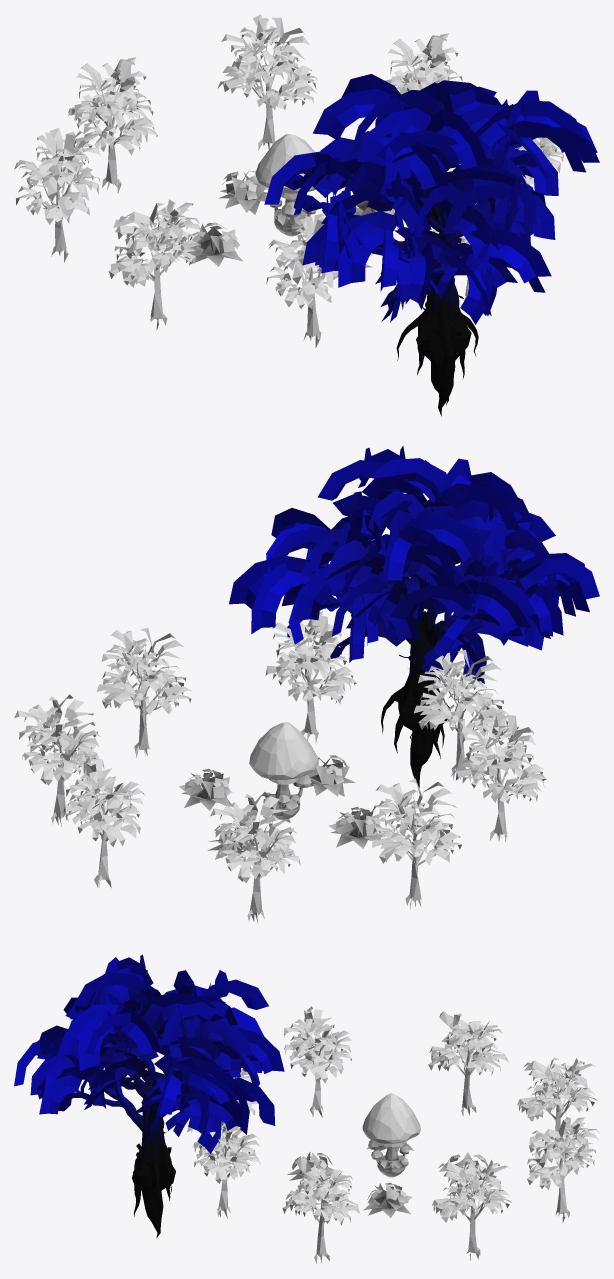
File: STA_57.fbx
3 renders of one model, top to bottom at view 1: azimuth 30°, elevation 25°; view 2: azimuth 150°, elevation 25°; view 3: azimuth 270°, elevation 25°, orthographic. The views are drawn at different scales.
Parts seen in each view (by area): view 1: STA_57; view 2: STA_57; view 3: STA_57.
Part boxes in pixels (x1,y1,x2,y2): STA_57: [14, 14, 599, 416]; STA_57: [14, 445, 599, 924]; STA_57: [14, 954, 599, 1263].
Size of the model in its own units: 4795 by 3269 by 6623.
